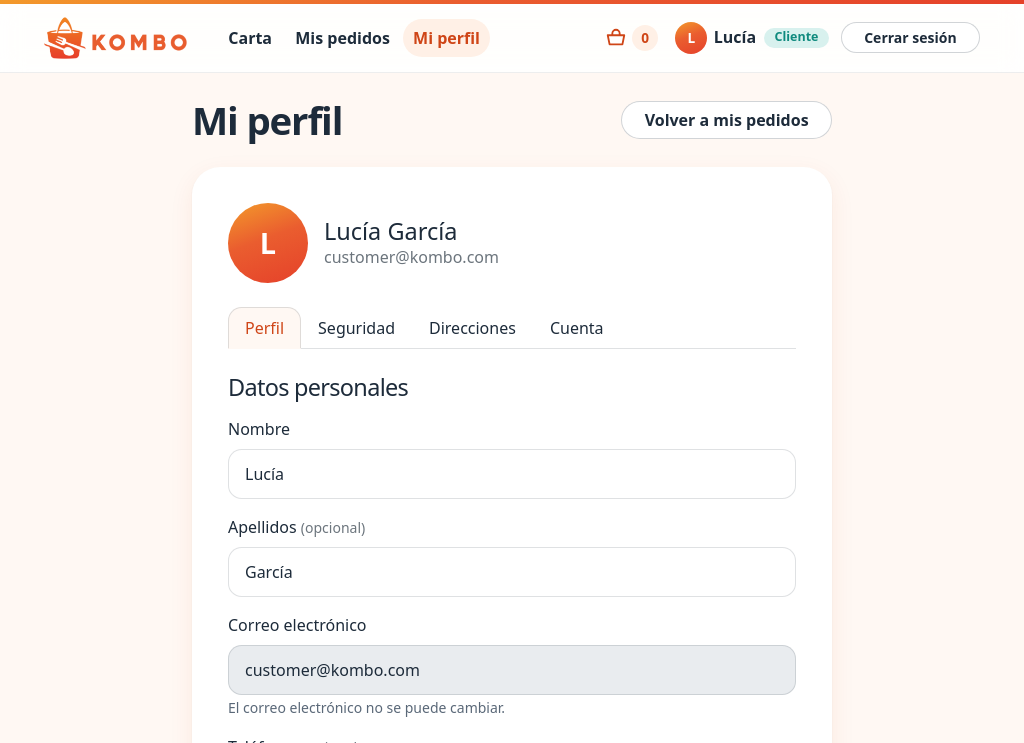
ProfileSettingsPage › changes the password and empties the form
Click the tab "Seguridad" at {"x": 357, "y": 328}, box [301,307,412,349]
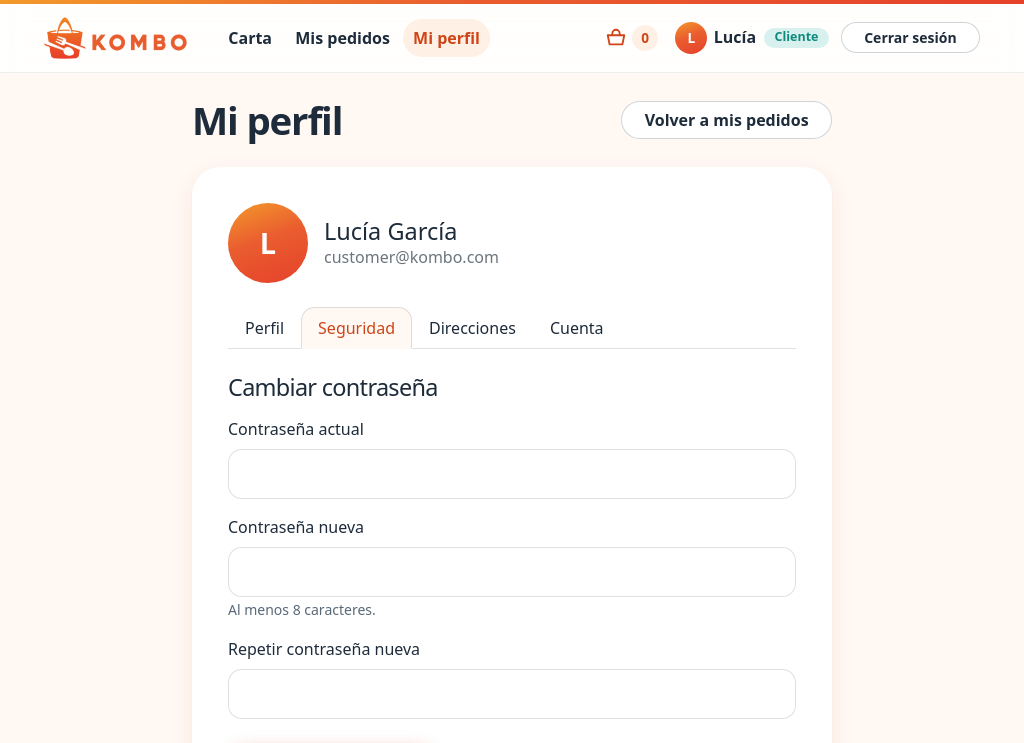
Type "customer" into the password field labelled "Contraseña actual" at {"x": 512, "y": 474}, box [228,449,796,499]
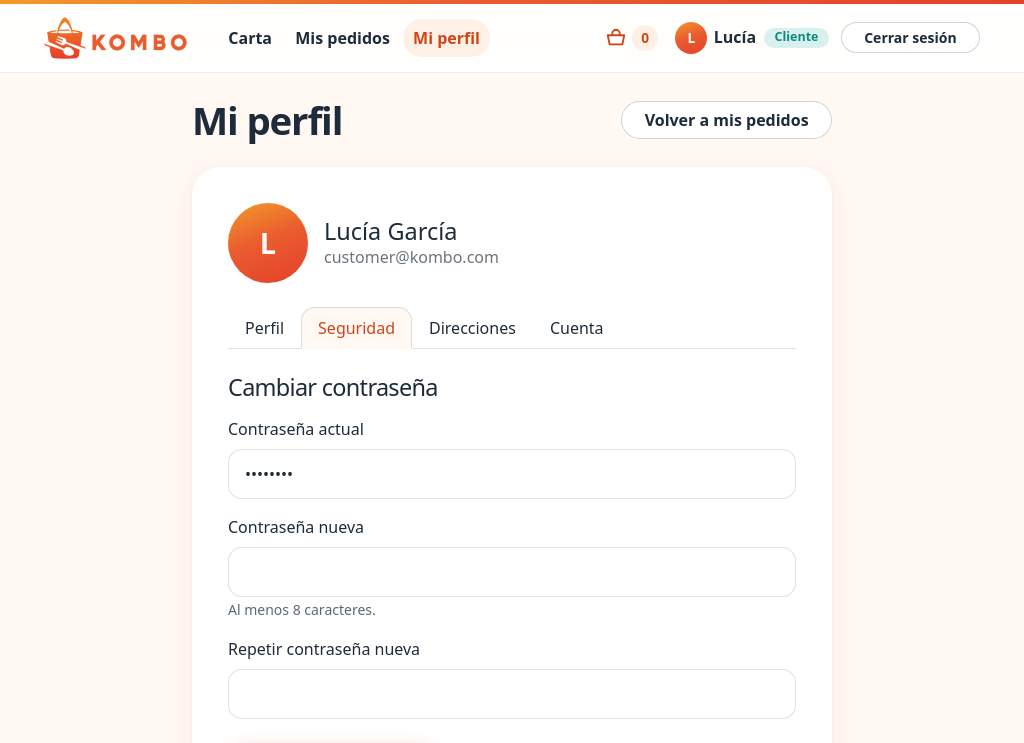
Type "new-secret-password" into the password field labelled "Contraseña nueva" at {"x": 512, "y": 572}, box [228,547,796,597]
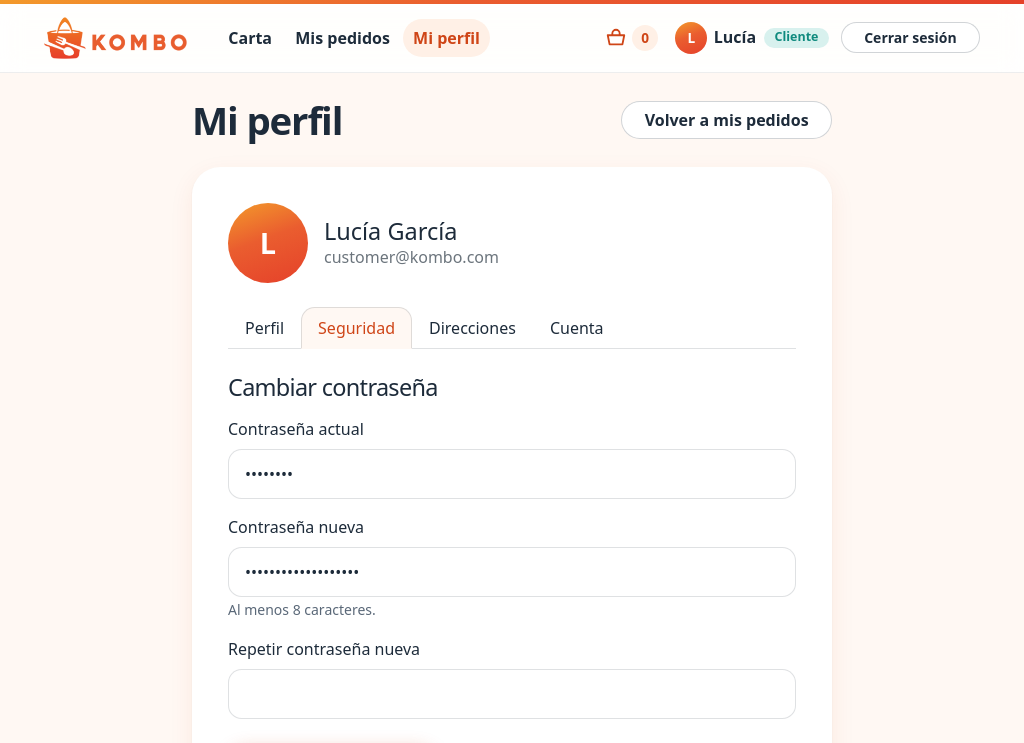
Type "new-secret-password" into the password field labelled "Repetir contraseña nueva" at {"x": 512, "y": 694}, box [228,669,796,719]
(page scrolled)
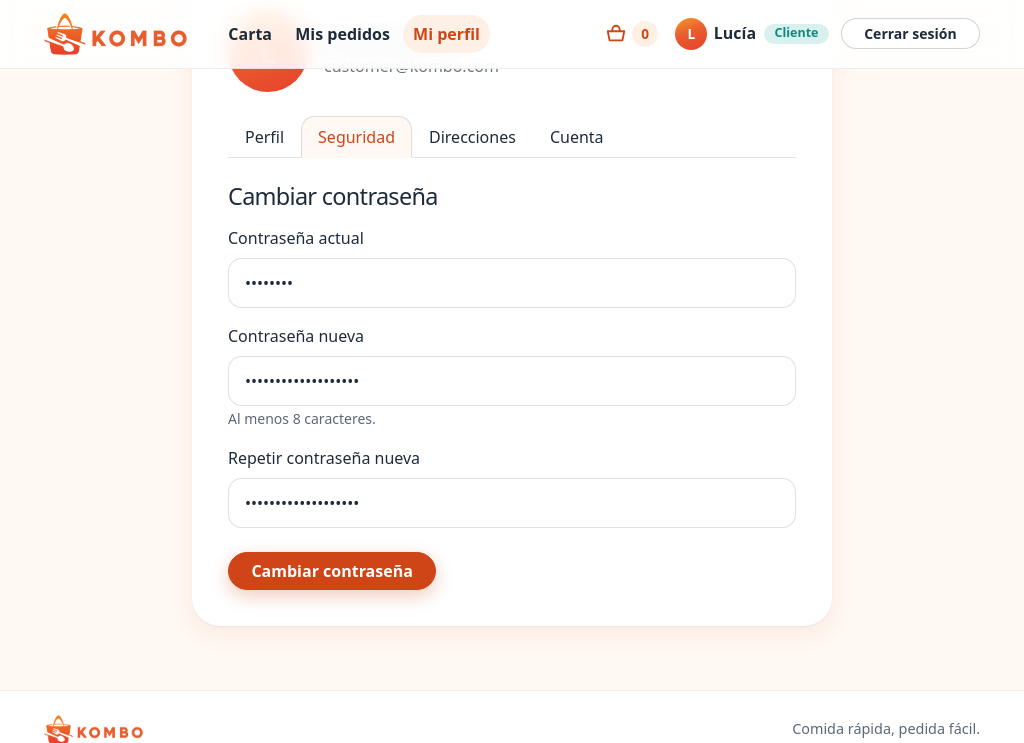
Click the button "Cambiar contraseña" at {"x": 332, "y": 571}, box [228,552,436,590]
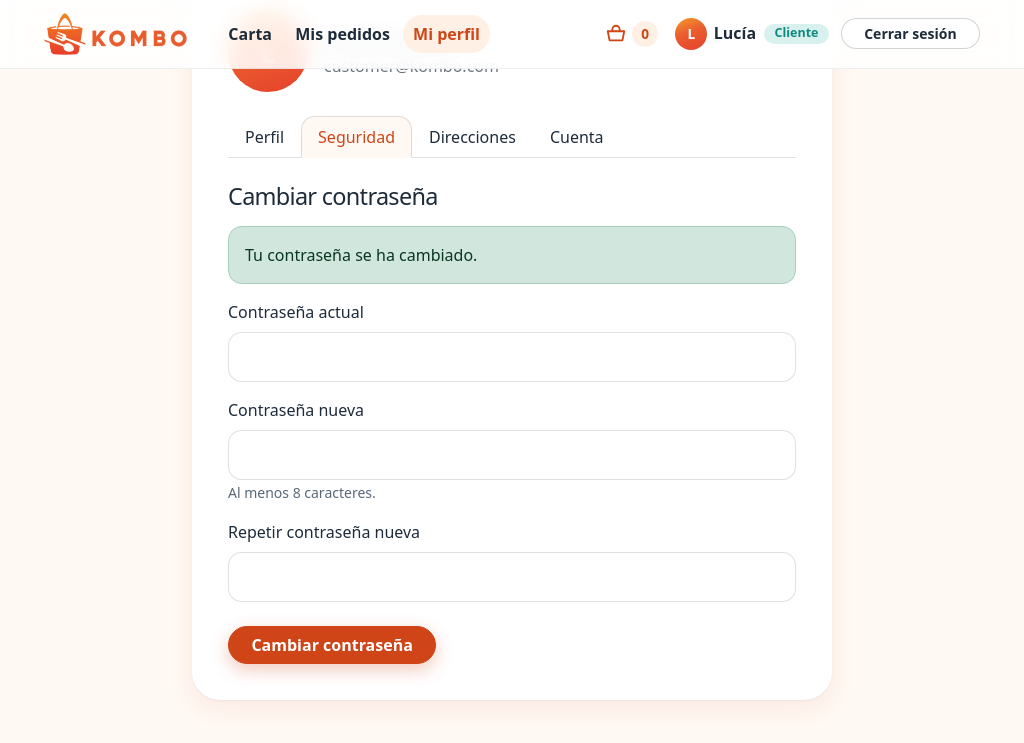
Now the text "Tu contraseña se ha cambiado." is shown, box [228,226,796,284]
Now the password field labelled "Contraseña actual" is empty, box [228,332,796,382]
